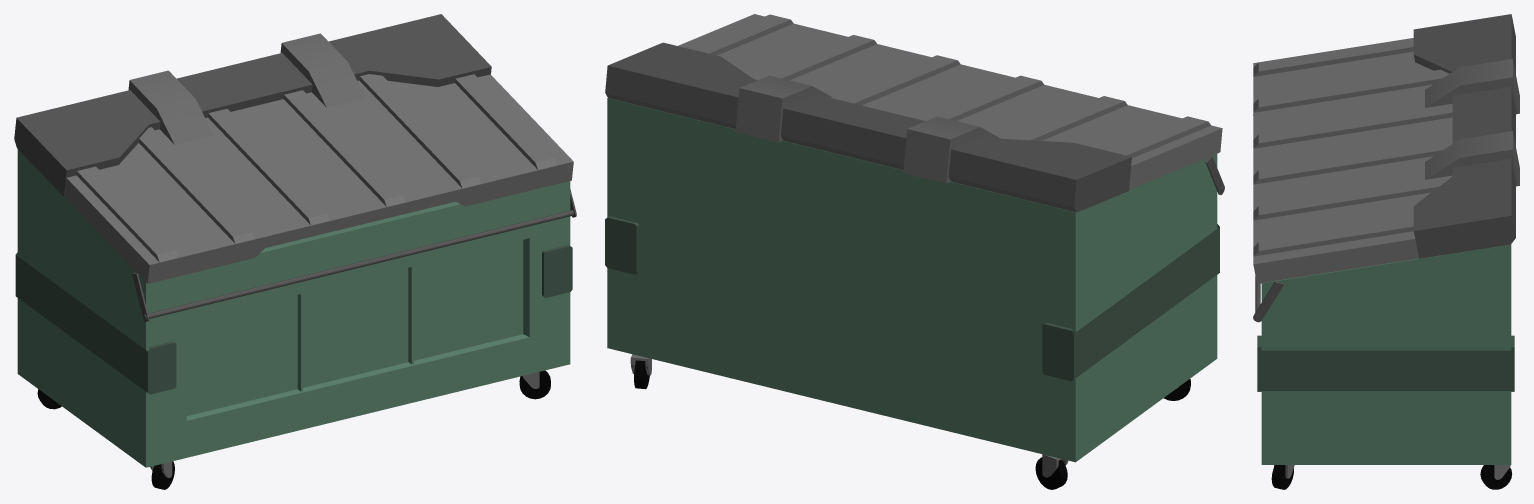
Rendered from _oubelle 1.fbx.
3 views of the same model, side by side, from view 1: azimuth 30°, elevation 25°; view 2: azimuth 150°, elevation 25°; view 3: azimuth 270°, elevation 25° (orthographic). The views are drawn at different scales.
Visible parts, largest first — view 1: pCube120, polySurface103; view 2: pCube120, polySurface103; view 3: polySurface103, pCube120.
Part boxes in pixels (box(x1,y1,x2,y2)): pCube120: box(15, 149, 576, 489); polySurface103: box(14, 14, 573, 283); pCube120: box(605, 98, 1224, 489); polySurface103: box(605, 14, 1222, 212); polySurface103: box(1253, 14, 1519, 284); pCube120: box(1253, 114, 1514, 489).
Size of the model in its own units: 1.33 by 0.8884 by 0.7335.
